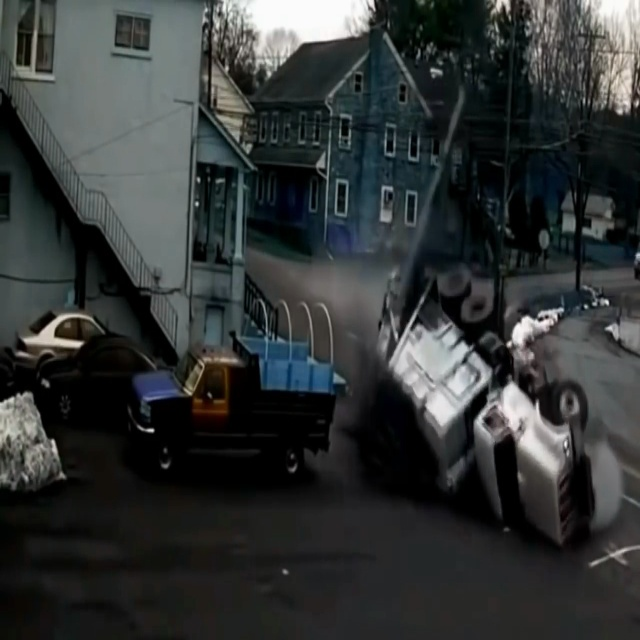acc: (370, 263, 596, 549)
